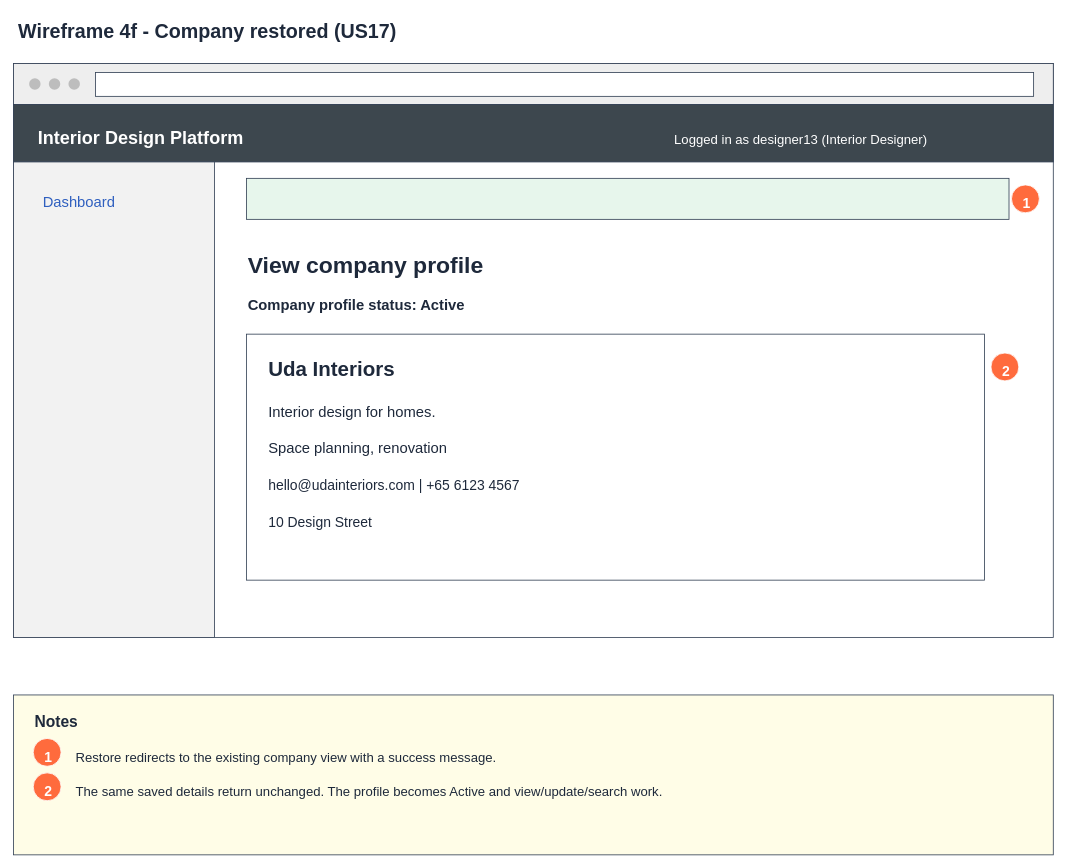
Image size: 1067x868. Some labels were removed from this diagram. Here are the shapes that lost their labels. From the top down, the centre of each, then its label:
At pixel 564 84: "localhost:5000/designer/company".
At pixel 627 198: "Company profile restored successfully".
